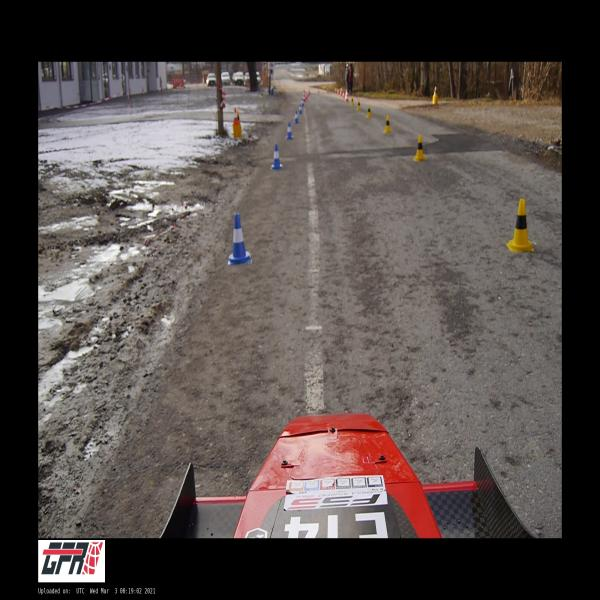blue_cone: (228, 213, 252, 265), (271, 144, 282, 169), (286, 122, 293, 140), (294, 111, 299, 123), (298, 104, 303, 114), (302, 99, 304, 106)
large_orange_cone: (345, 88, 349, 102), (302, 90, 306, 102)
orange_cone: (233, 108, 240, 124), (317, 89, 319, 94), (327, 89, 329, 93)
yellow_cone: (507, 198, 535, 252), (414, 135, 426, 161), (384, 115, 391, 133), (366, 104, 372, 118), (432, 86, 437, 95), (357, 100, 361, 110), (350, 97, 354, 105)
